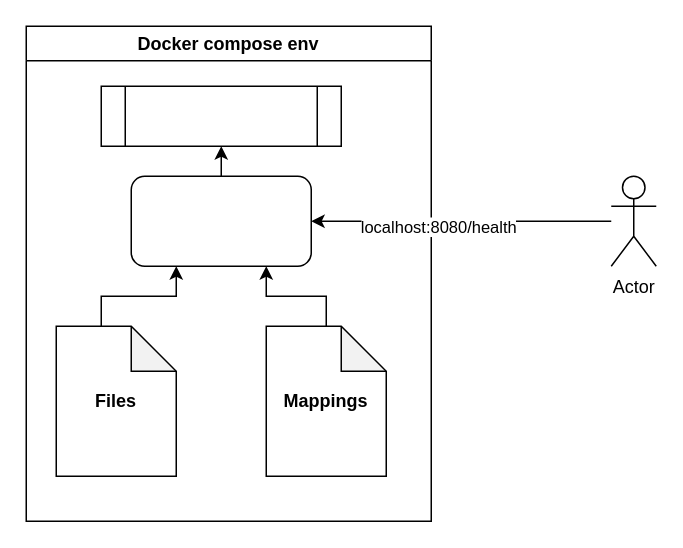
Some shapes in this 683 by 548 pixel diagram are drawn without their labels. The box of each missing label's shape, as (x1, y1, x2, y2) in pixels:
Docker compose local network 172.24.24.0/24: (100, 85, 341, 146)
mongo: (130, 175, 311, 266)
